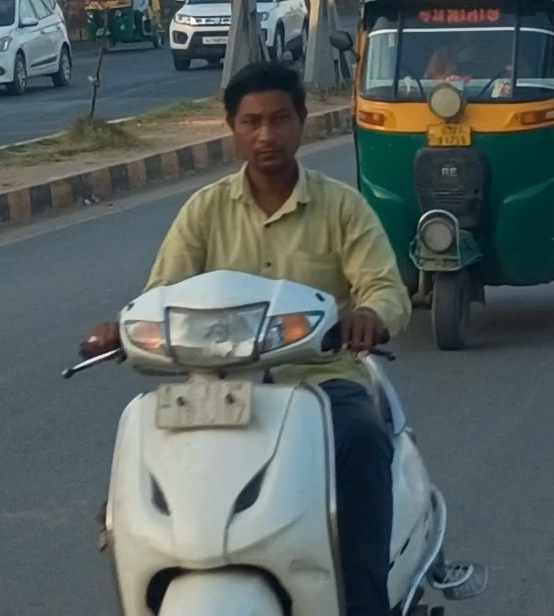BikeWithRider: (54, 53, 496, 616)
NoHelmet: (211, 55, 319, 183)
